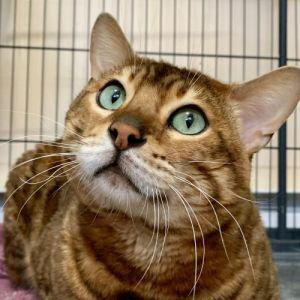bengal: (58, 8, 300, 236)
